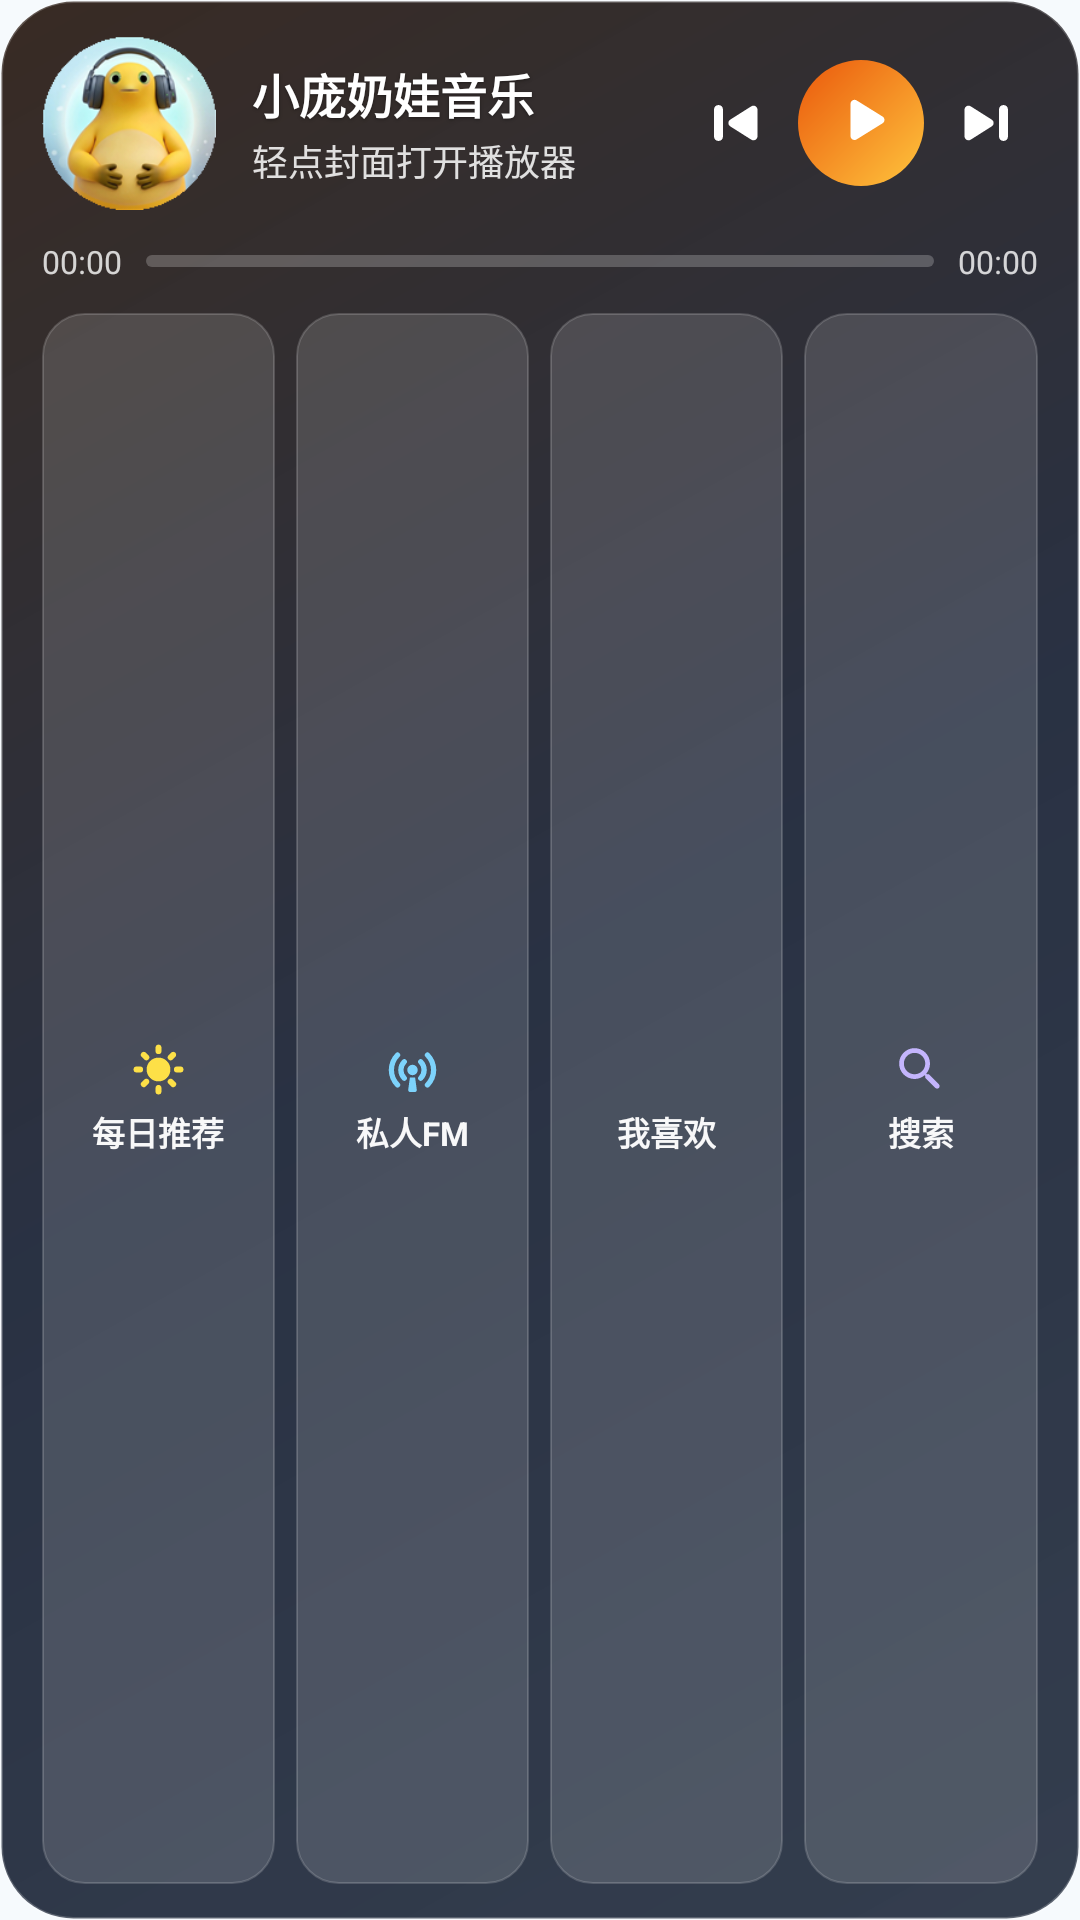

Icon click points for this 1080x1920 phone screenshot, format point (x, y):
上一首: point (736, 123)
下一首: point (986, 123)
播放或暂停: point (861, 123)
